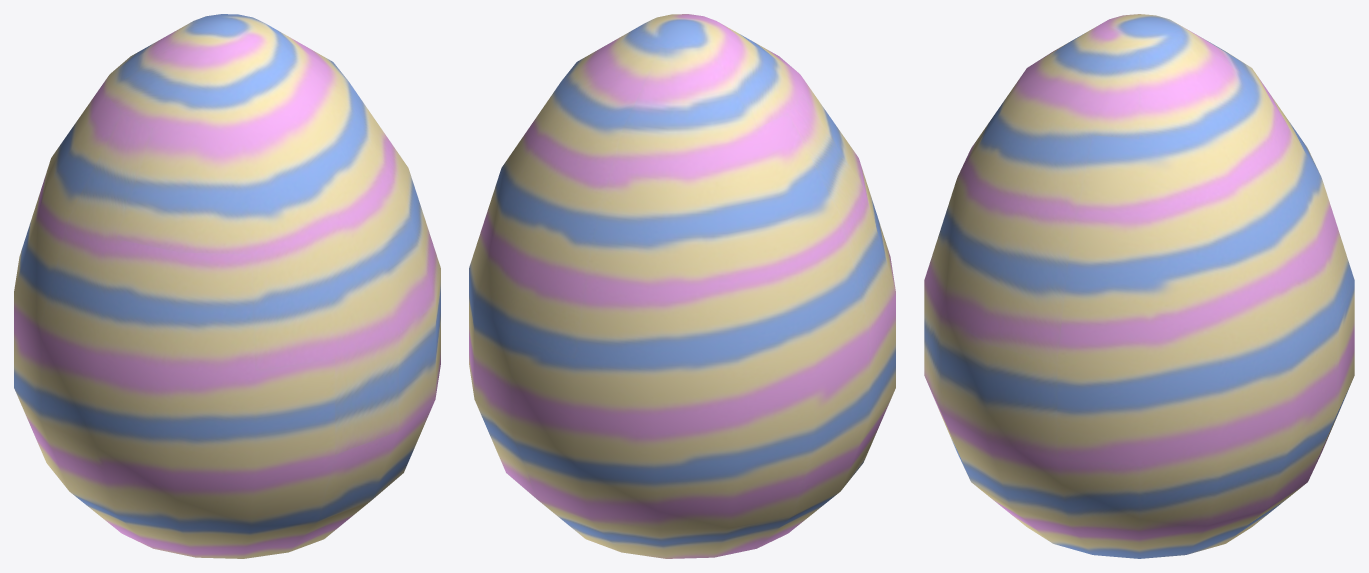
The picture shows the model from 3 angles, left to right: view 1: azimuth 30°, elevation 25°; view 2: azimuth 150°, elevation 25°; view 3: azimuth 270°, elevation 25°; orthographic projection.
Visible parts, largest first — view 1: Egg-LowPoly-Stripey_0; view 2: Egg-LowPoly-Stripey_0; view 3: Egg-LowPoly-Stripey_0.
Boxes of the visible parts, x1=… form: Egg-LowPoly-Stripey_0: x1=14, y1=14, x2=440, y2=558; Egg-LowPoly-Stripey_0: x1=469, y1=14, x2=895, y2=558; Egg-LowPoly-Stripey_0: x1=924, y1=14, x2=1354, y2=558.
Size of the model in its own units: 1.96 by 2.6 by 1.96.
1 material, 1 textured.
